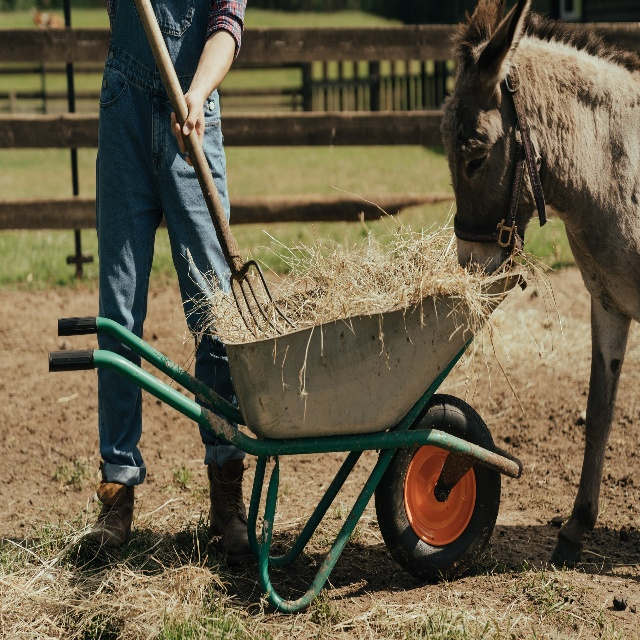Sin_guantes: (170, 88, 206, 166)
